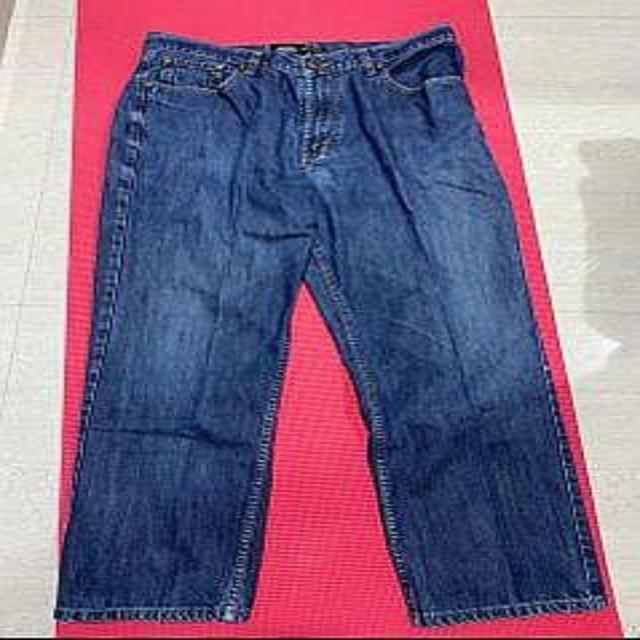TROUSER: (42, 19, 636, 630)
